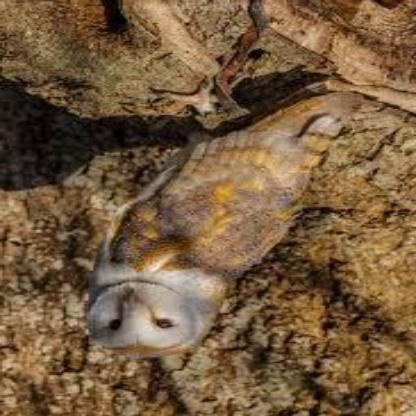Owl: (89, 100, 338, 351)
